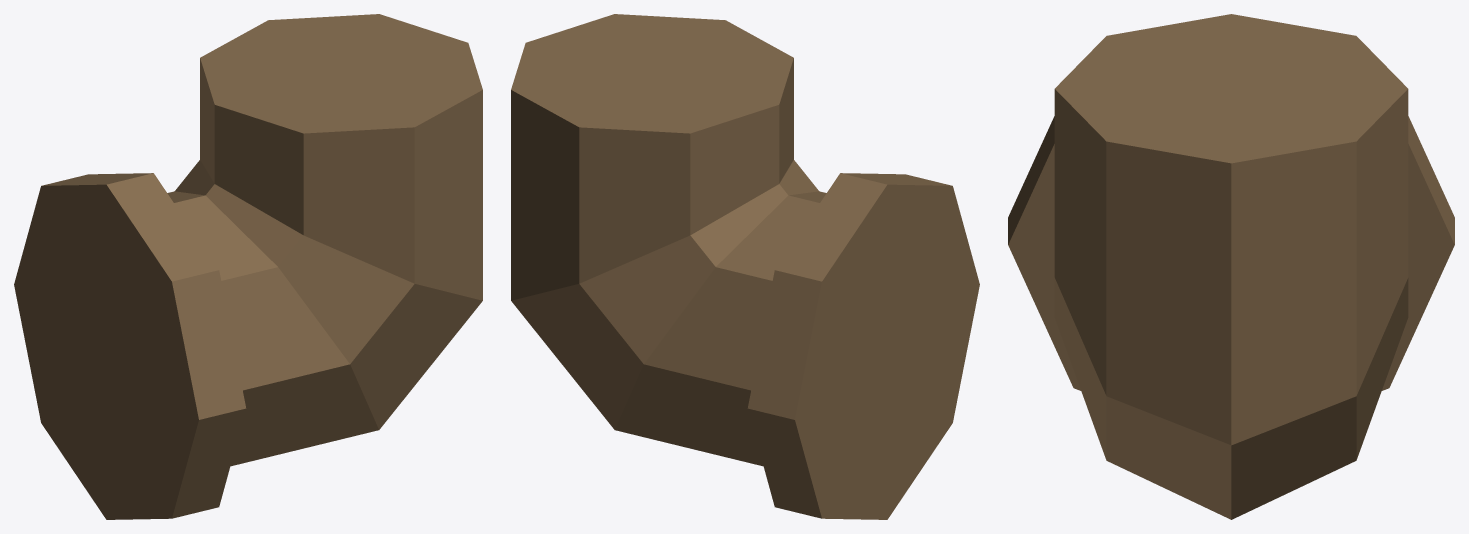
The model's file is SM_Prop_Pipe_01_Corner_01.fbx.
3 renders of one model, left to right at view 1: azimuth 30°, elevation 25°; view 2: azimuth 150°, elevation 25°; view 3: azimuth 270°, elevation 25°, orthographic. The views are drawn at different scales.
Parts seen in each view (by area): view 1: SM_Prop_Pipe_01_Corner_01; view 2: SM_Prop_Pipe_01_Corner_01; view 3: SM_Prop_Pipe_01_Corner_01.
Part boxes in pixels (left/top/right/bottom): SM_Prop_Pipe_01_Corner_01: left=14, top=14, right=482, bottom=519; SM_Prop_Pipe_01_Corner_01: left=511, top=14, right=979, bottom=519; SM_Prop_Pipe_01_Corner_01: left=1008, top=14, right=1454, bottom=519.
Bounding box in the file's own units: 42.8 × 43.95 × 37.9.
